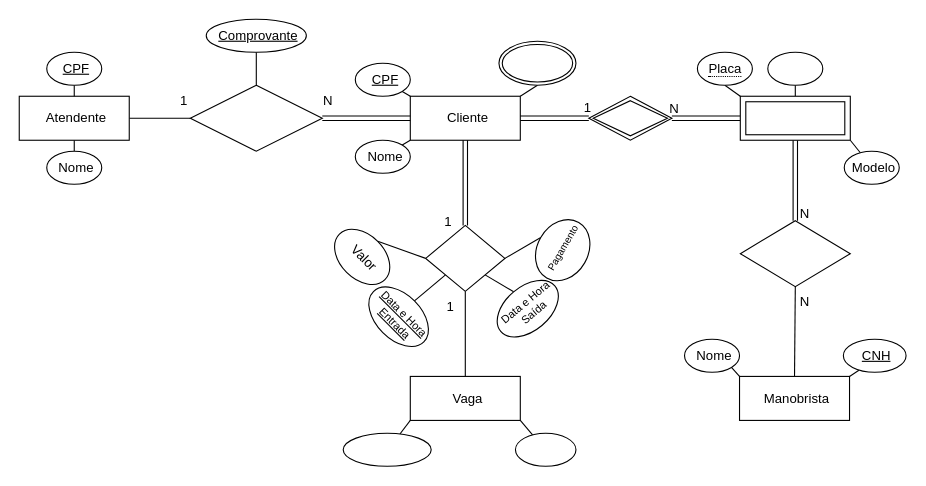
Image size: 926x486. Some labels were removed from this diagram. The shapes that lost their labels are listed below. From the top down, each one's centre as x and y in pixels, then its label:
At point (537, 62): "Telefones".
At point (795, 68): "Cor".
At point (255, 117): "Registra".
At point (630, 117): "Possui".
At point (794, 117): "Veículo".
At point (465, 257): "Aluga".
At point (794, 253): "Entrega/Retira".
At point (386, 449): "Localização".
At point (545, 449): "Situação".
